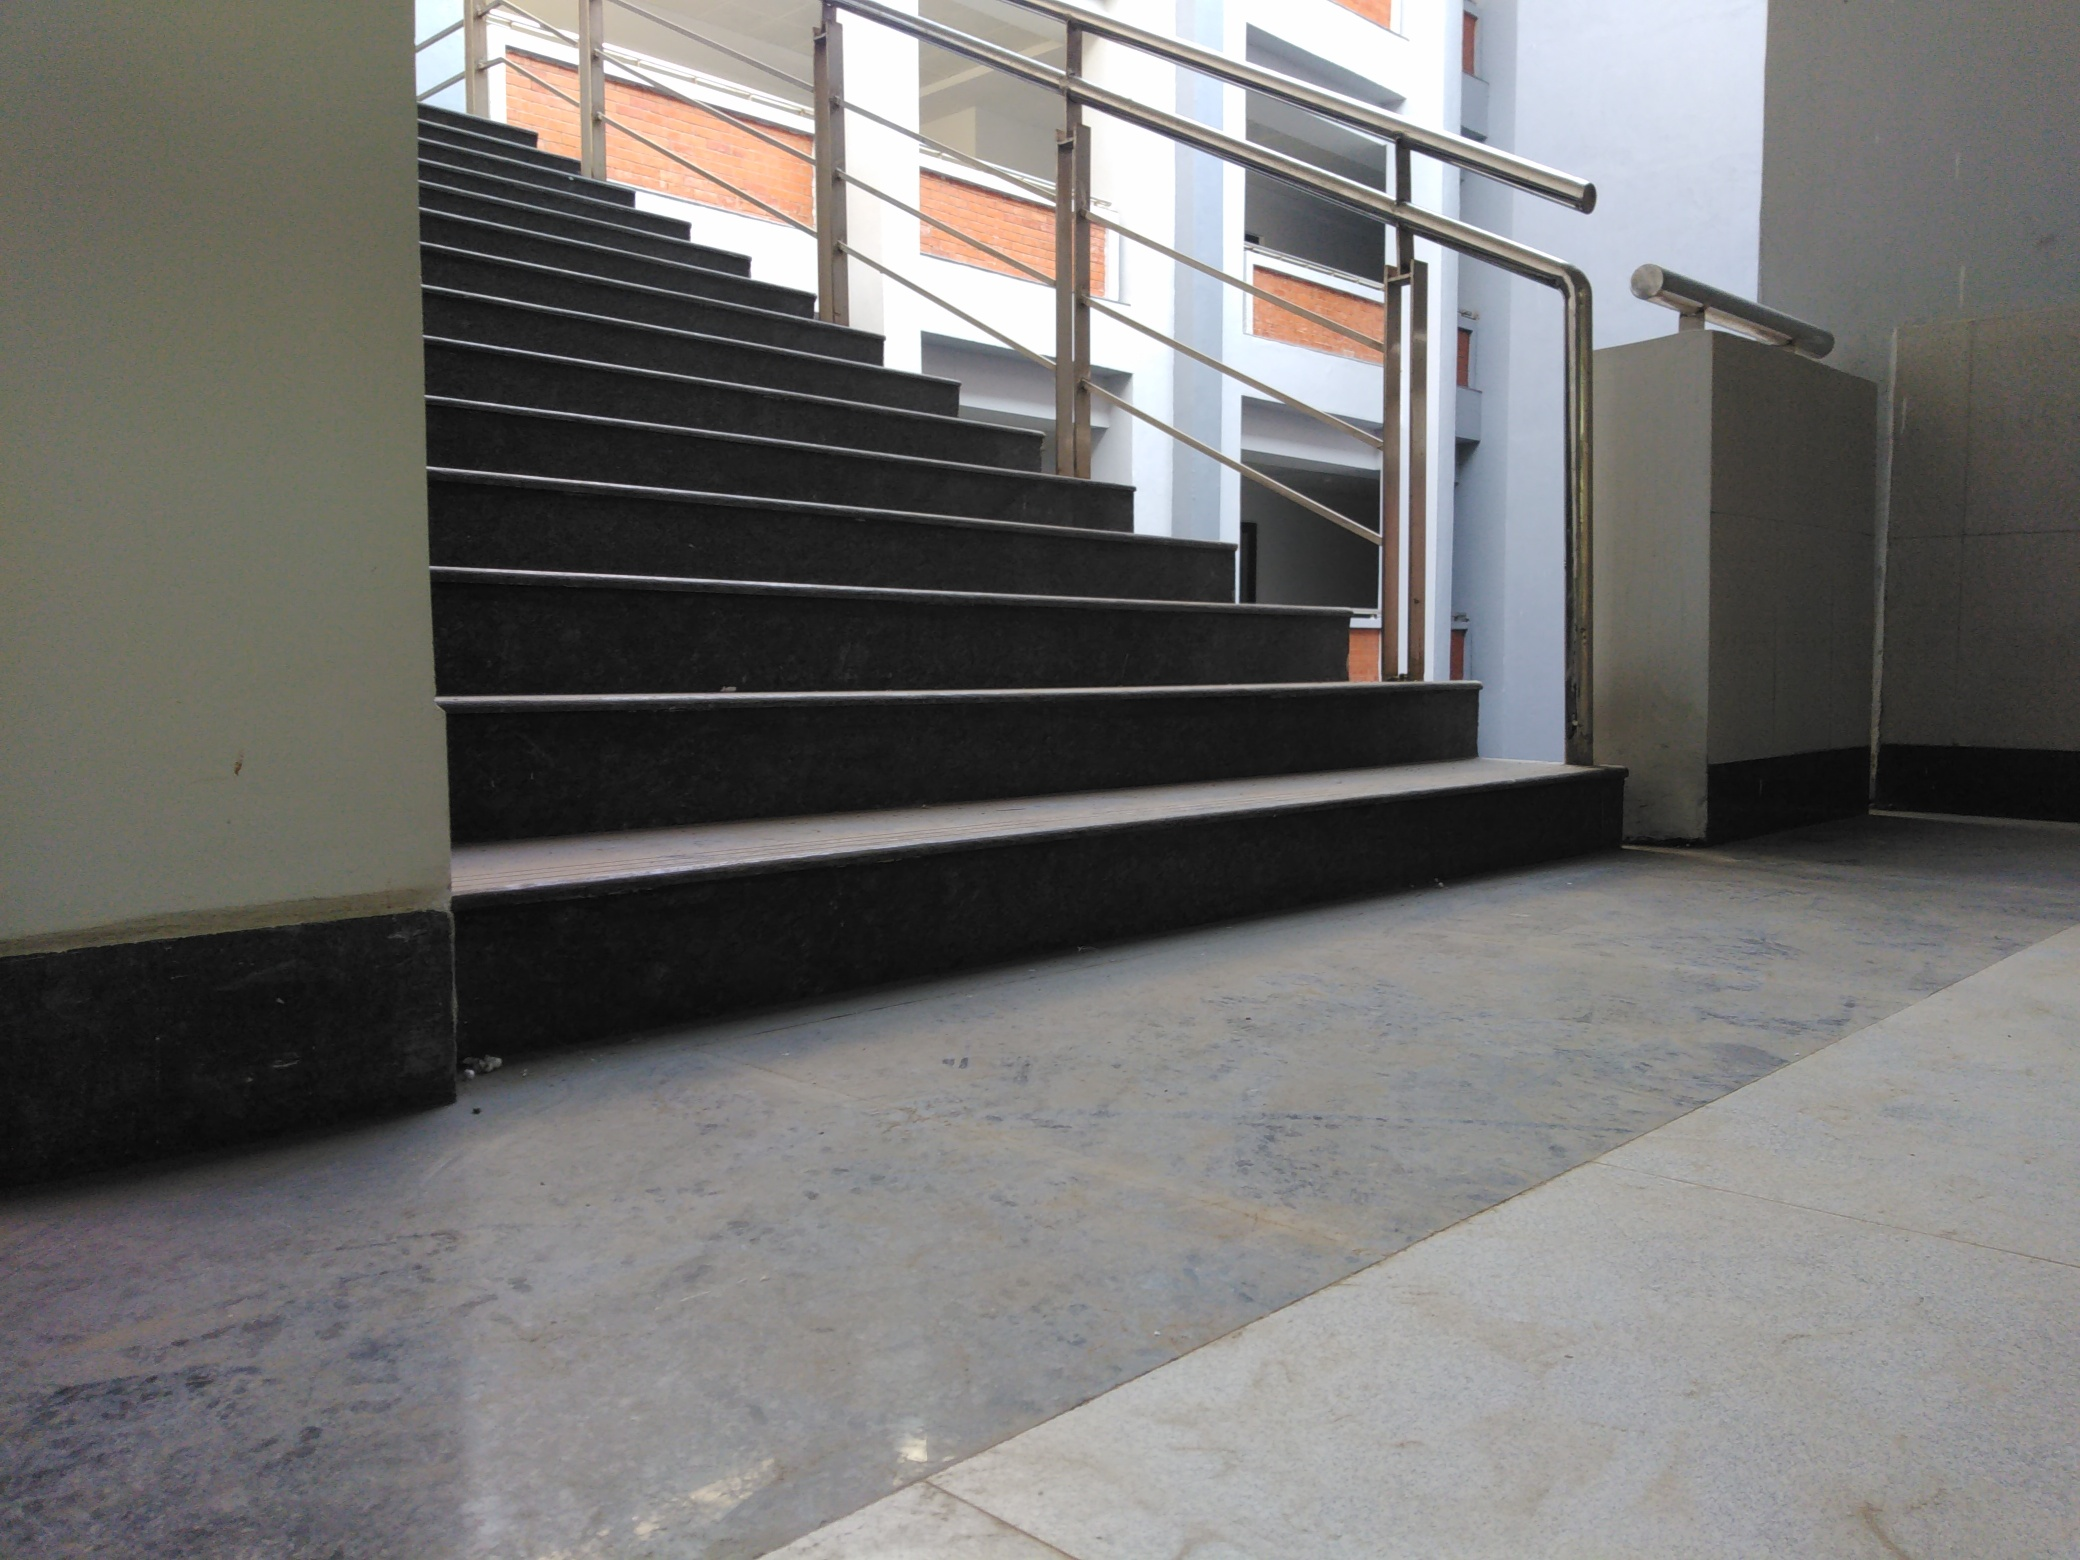stairs_up: (418, 103, 1572, 934)
